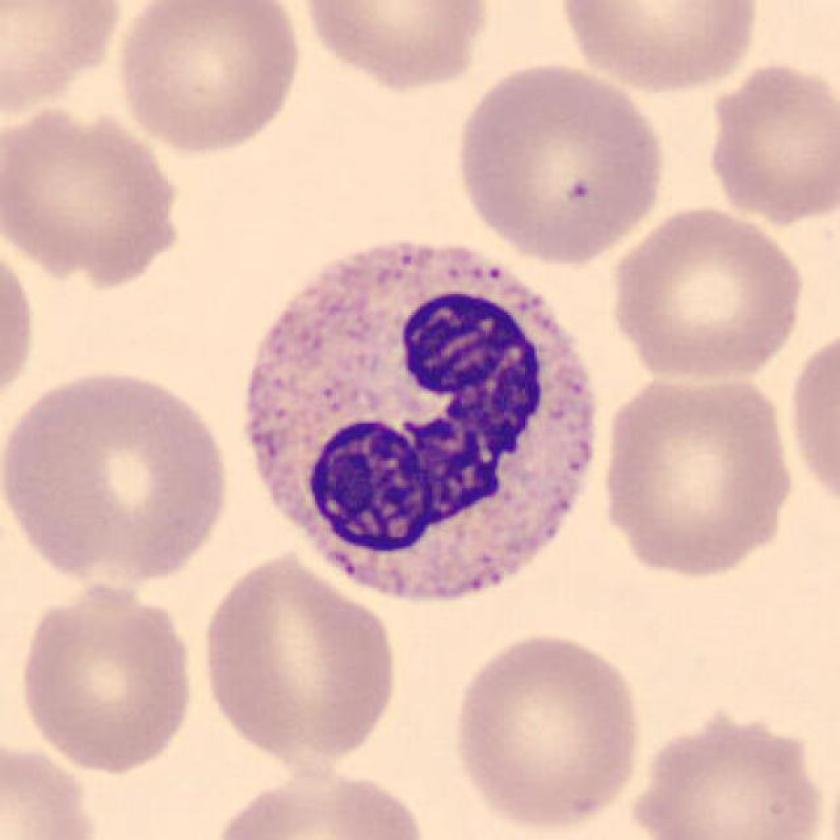neutrophil: (248, 240, 594, 599)
